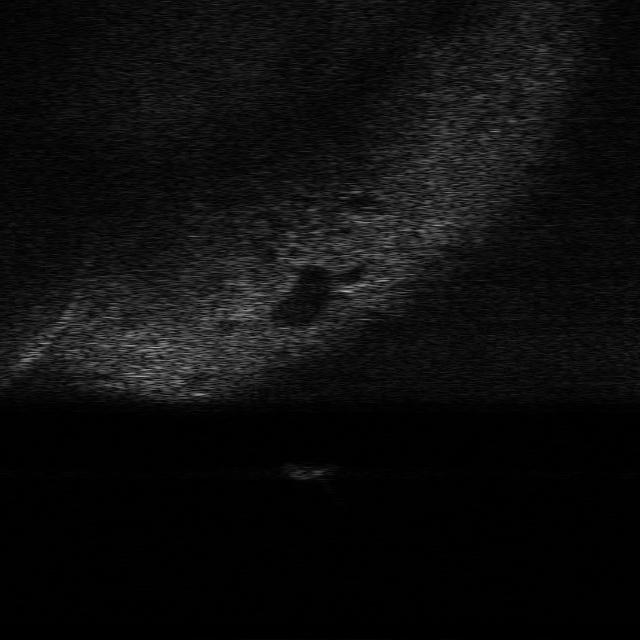cube: (279, 460, 336, 480)
